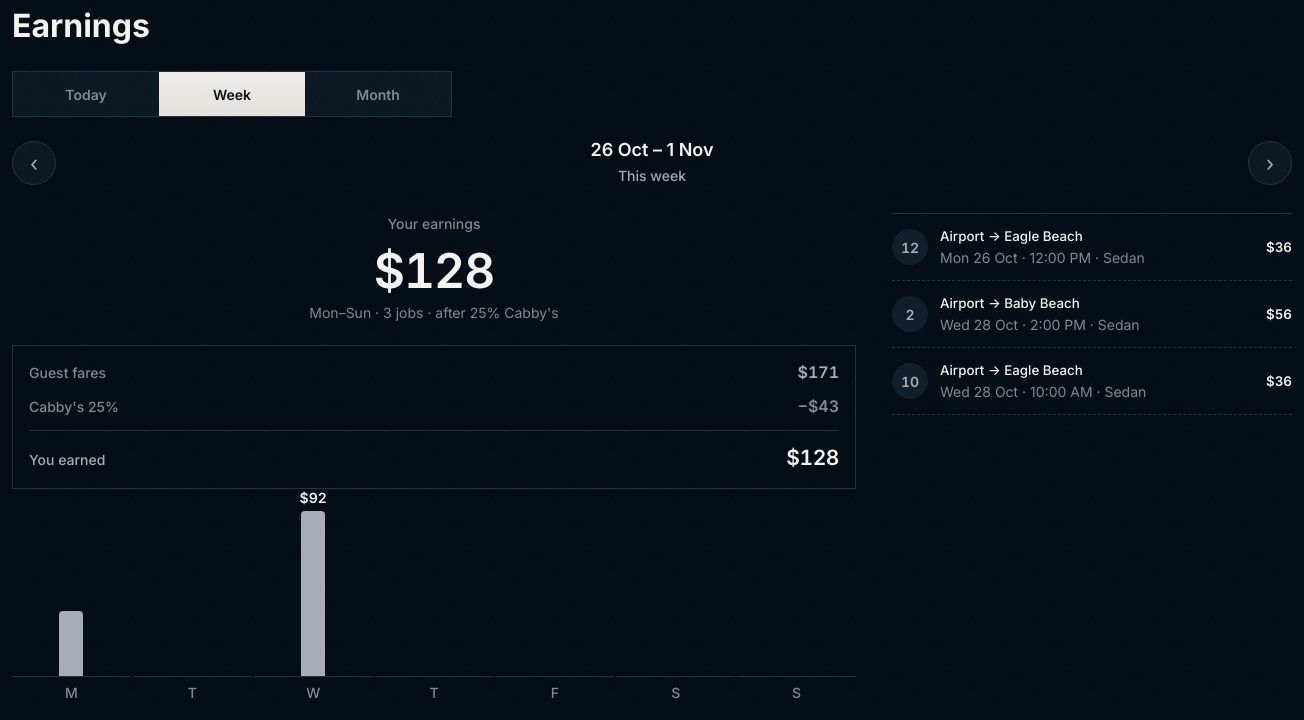
it: Earnings › opens a single day and shows the rides behind it
Click the button named "Wednesday, $92, 2 jobs". click: (313, 606)
box: [254,511,373,701]
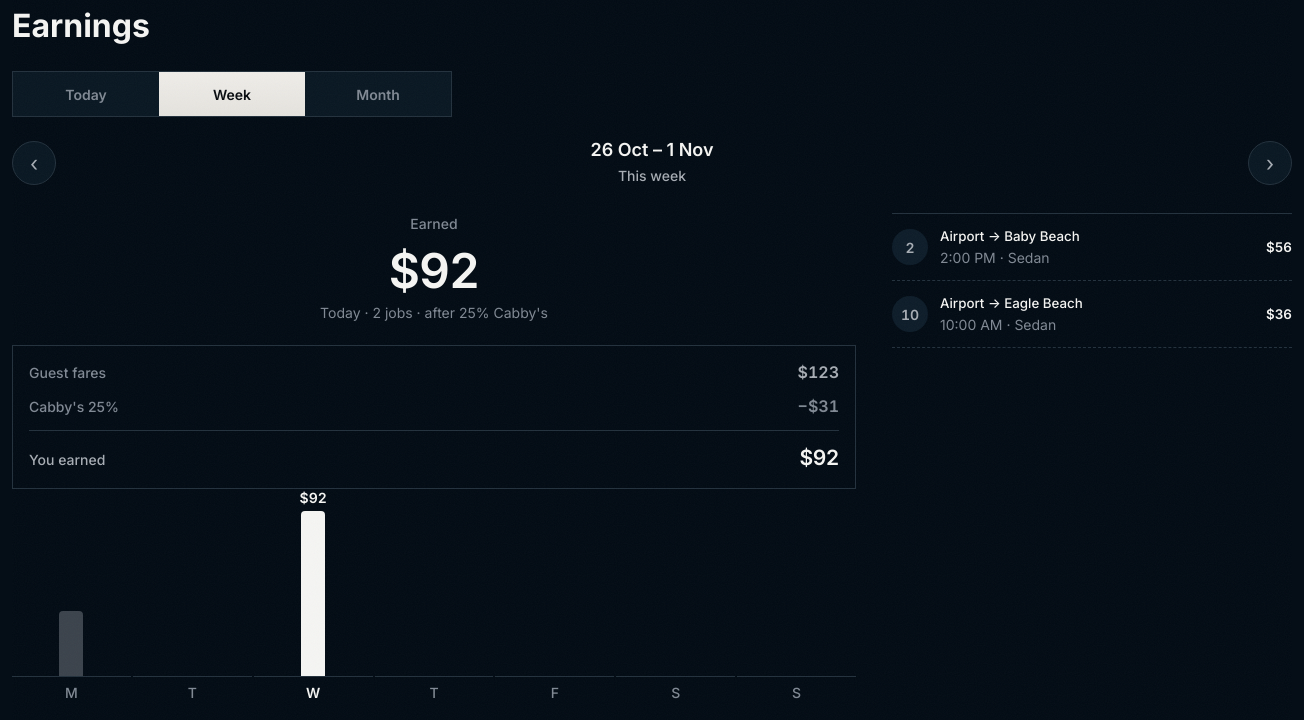
Expected: the text "Airport → Baby Beach" is shown, [940,228,1080,244]
Result: the text "Today · 2 jobs · after 25% Cabby's" is shown at [320,304,548,321]
Result: the text "Airport → Eagle Beach" is shown once at [940,295,1083,311]
